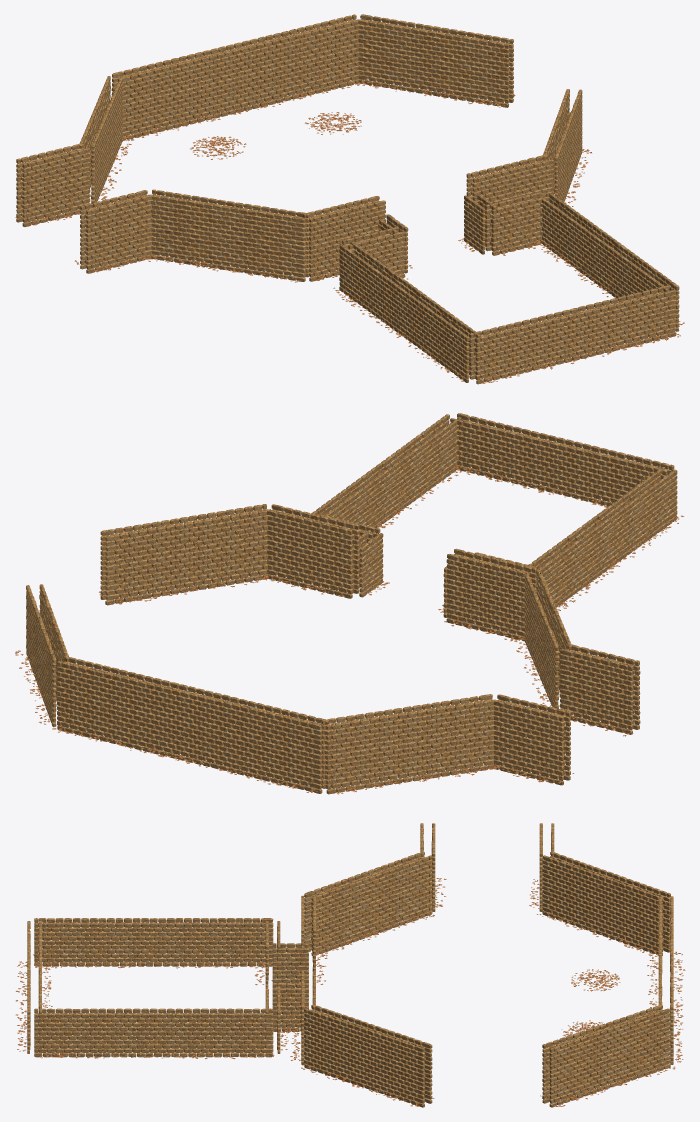
Rendered from AutumnDetailRoom05.fbx.
3 views of the same model, one above another, from view 1: azimuth 30°, elevation 25°; view 2: azimuth 150°, elevation 25°; view 3: azimuth 270°, elevation 25° (orthographic). The views are drawn at different scales.
Visible parts, largest first — view 1: R05_AutumnStonework_LOD0, R05_AutumnLeafDrifts_LOD0; view 2: R05_AutumnStonework_LOD0, R05_AutumnLeafDrifts_LOD0; view 3: R05_AutumnStonework_LOD0, R05_AutumnLeafDrifts_LOD0.
Part boxes in pixels (left/top/right/bottom): R05_AutumnStonework_LOD0: left=16, top=14, right=679, bottom=384; R05_AutumnLeafDrifts_LOD0: left=15, top=81, right=684, bottom=383; R05_AutumnStonework_LOD0: left=26, top=413, right=677, bottom=794; R05_AutumnLeafDrifts_LOD0: left=15, top=465, right=683, bottom=794; R05_AutumnStonework_LOD0: left=27, top=823, right=673, bottom=1107; R05_AutumnLeafDrifts_LOD0: left=16, top=878, right=685, bottom=1106.
Size of what is drawn, in the model's own units: 45.63 by 5.47 by 56.39.
